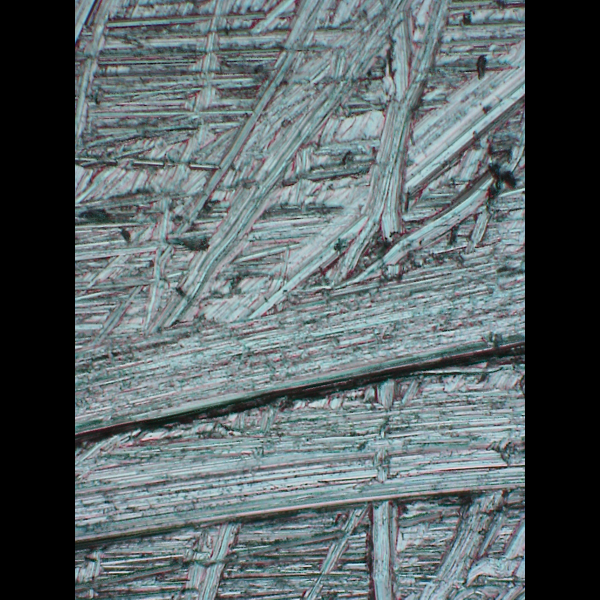d: (77, 0, 524, 599)
